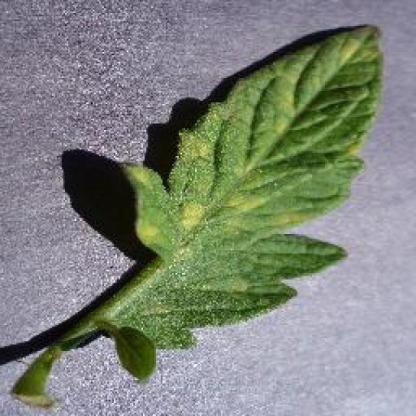Tomato_Leaf_Mold: (122, 23, 382, 325)
